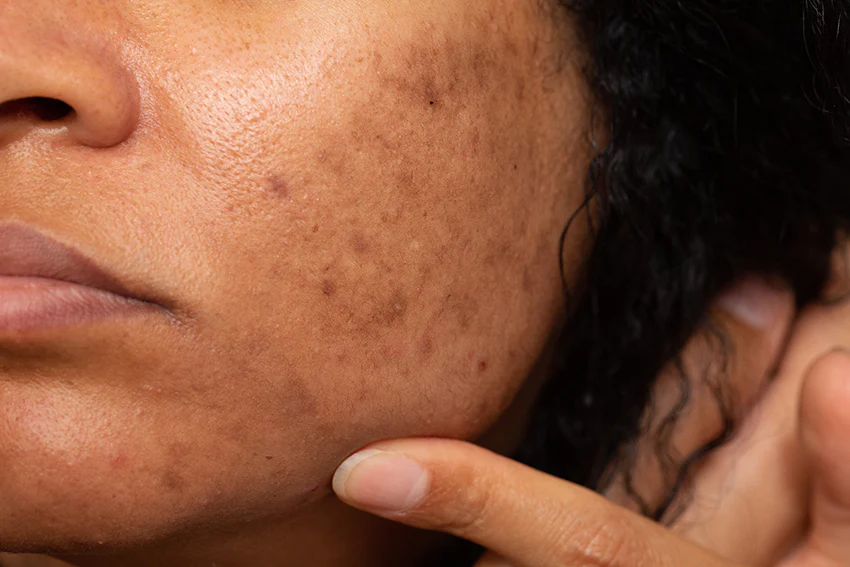Flek Hitam: (251, 20, 599, 397)
